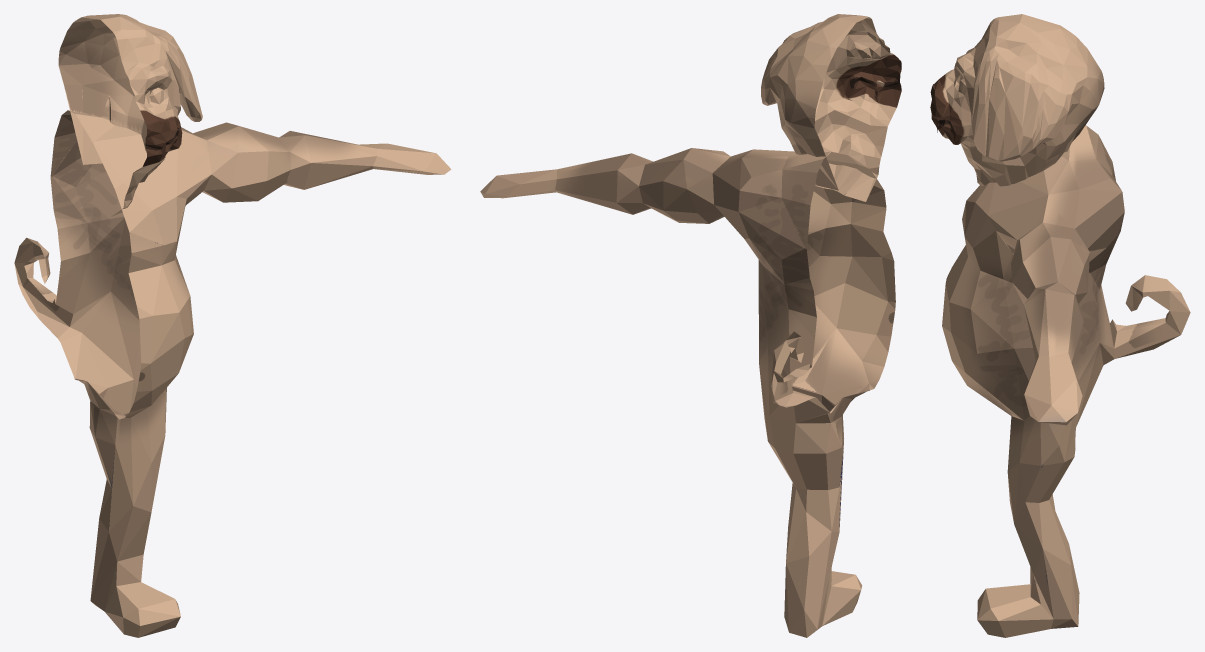
File: PugLowPoly.obj
The picture shows the model from 3 angles, left to right: view 1: azimuth 30°, elevation 25°; view 2: azimuth 150°, elevation 25°; view 3: azimuth 270°, elevation 25°; orthographic projection. The views are drawn at different scales.
Parts seen in each view (by area): view 1: Icosphere.001_Icosphere.002, Icosphere; view 2: Icosphere.001_Icosphere.002, Icosphere; view 3: Icosphere.001_Icosphere.002, Icosphere.
Part boxes in pixels (bbox=[...]): Icosphere.001_Icosphere.002: bbox=[14, 110, 451, 637]; Icosphere: bbox=[58, 14, 202, 216]; Icosphere.001_Icosphere.002: bbox=[480, 148, 895, 637]; Icosphere: bbox=[761, 14, 901, 201]; Icosphere.001_Icosphere.002: bbox=[942, 125, 1190, 637]; Icosphere: bbox=[930, 14, 1104, 186].
Bounding box in the file's own units: 5.36 × 8.71 × 3.44.
Materials: 1 (1 with a texture image).
